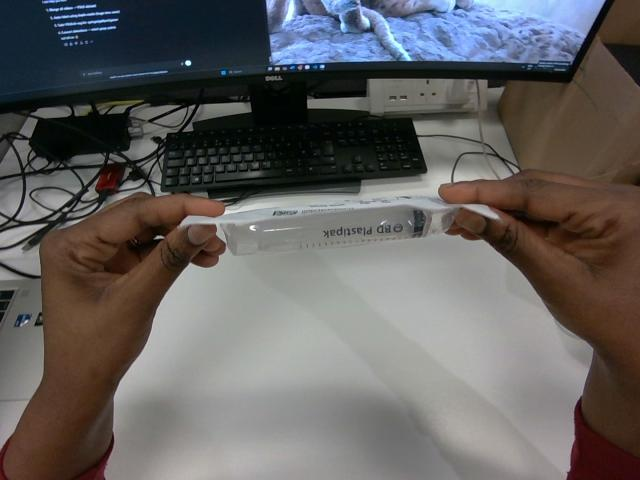syringe: (181, 196, 496, 254)
